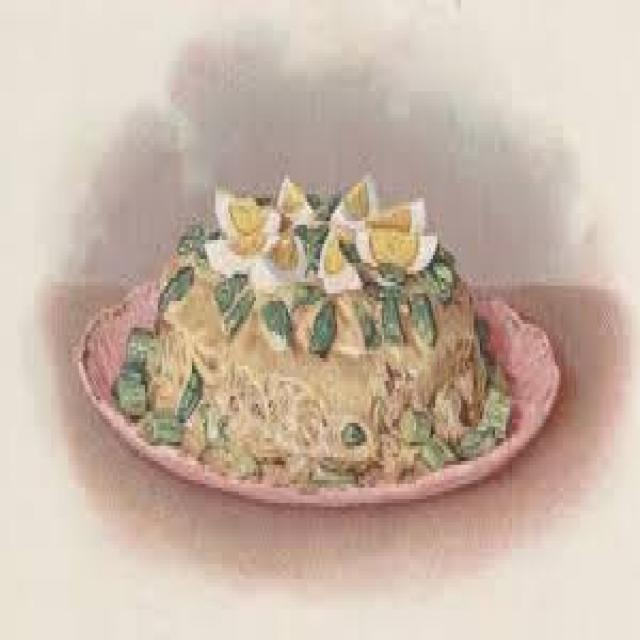organic waste: (113, 172, 512, 488), (352, 221, 439, 278), (213, 187, 282, 236), (326, 172, 376, 232), (203, 228, 273, 270), (316, 228, 358, 290), (352, 194, 425, 229), (250, 229, 300, 278), (275, 168, 316, 225), (156, 263, 196, 312), (220, 282, 256, 335), (406, 293, 440, 347), (303, 294, 335, 351), (258, 293, 292, 343), (175, 358, 203, 415), (478, 381, 512, 427), (141, 404, 181, 442), (454, 419, 495, 453), (117, 373, 156, 408), (378, 289, 403, 343), (119, 324, 158, 358), (401, 404, 431, 446), (177, 217, 209, 255), (431, 240, 454, 286), (420, 434, 450, 469), (109, 366, 143, 396), (213, 263, 241, 297), (482, 347, 510, 381), (472, 301, 491, 343), (303, 228, 320, 266), (309, 187, 337, 210), (339, 415, 361, 438)
